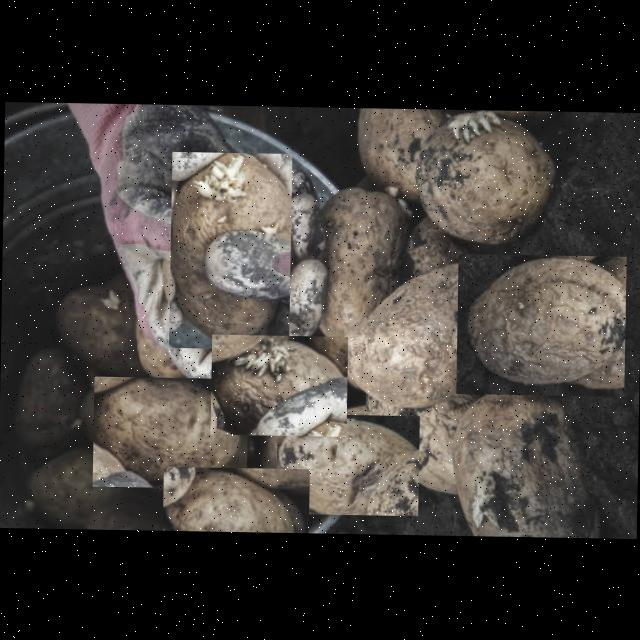Diseased-fungal potato: (334, 243, 506, 412), (455, 254, 625, 396), (91, 376, 247, 489), (274, 414, 418, 516), (162, 466, 308, 533)
Sprouted potato: (168, 152, 290, 350), (412, 109, 558, 245), (209, 334, 347, 436)
